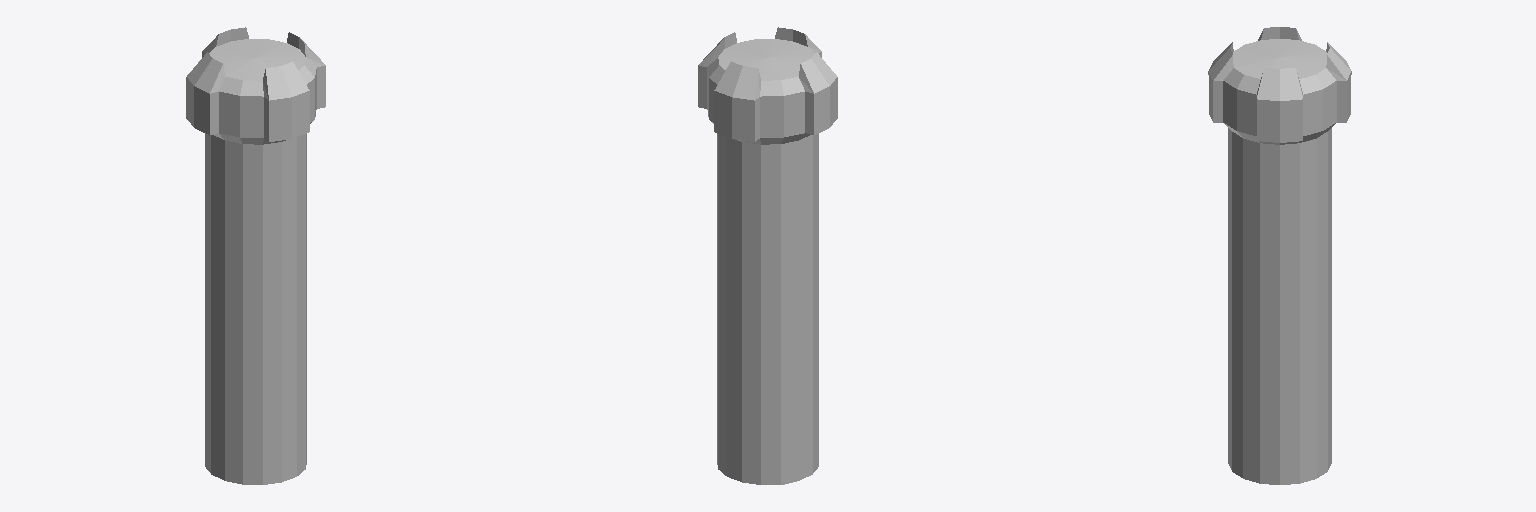
The model's file is stg400_MotBoring05_05.obj.
3 renders of one model, left to right at view 1: azimuth 30°, elevation 25°; view 2: azimuth 150°, elevation 25°; view 3: azimuth 270°, elevation 25°, orthographic.
Parts seen in each view (by area): view 1: polygon1, polygon2, polygon0; view 2: polygon1, polygon2, polygon0; view 3: polygon2, polygon1, polygon0.
Boxes of the visible parts, x1,y1,x2,y2 form: polygon1: [205, 122, 311, 484]; polygon2: [225, 134, 306, 484]; polygon0: [186, 27, 325, 141]; polygon1: [712, 122, 818, 484]; polygon2: [717, 134, 798, 484]; polygon0: [698, 27, 837, 141]; polygon2: [1232, 132, 1327, 483]; polygon1: [1224, 123, 1335, 484]; polygon0: [1208, 27, 1351, 142].
Bounding box in the file's own units: 140 × 451 × 140.